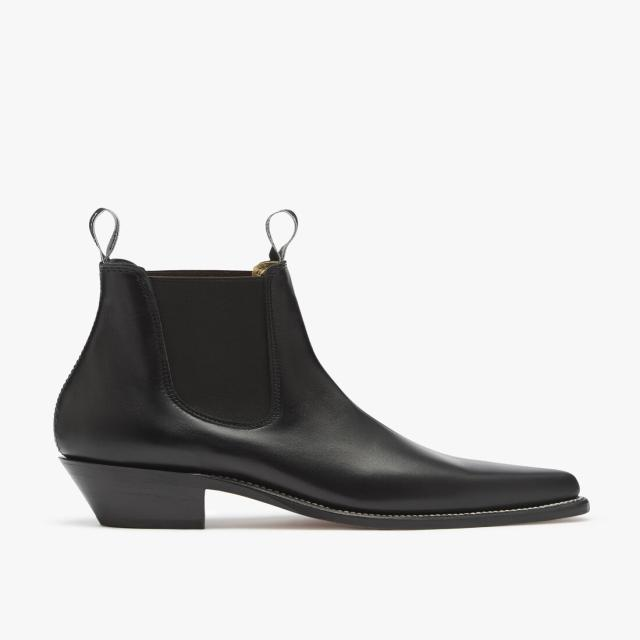boot: (45, 208, 611, 537)
